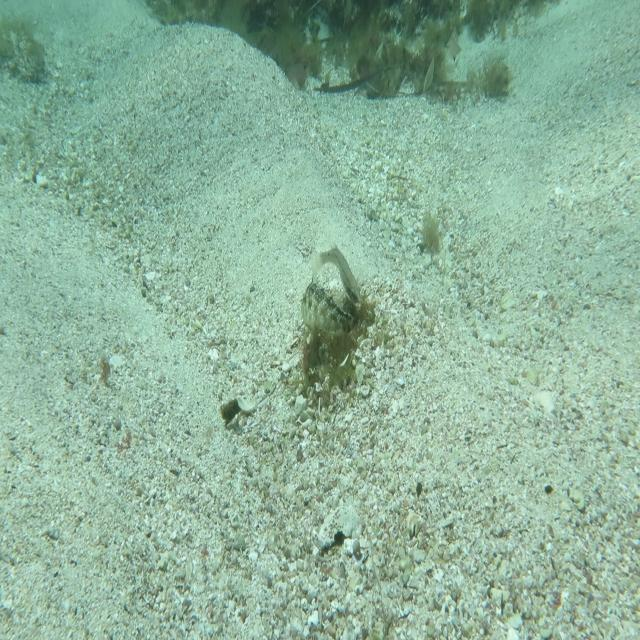DAN_CIRC: (298, 271, 359, 340)
female: (307, 241, 363, 306)
nest: (288, 289, 380, 415)
vegetation: (148, 0, 542, 37), (257, 38, 466, 86), (420, 217, 445, 263), (220, 394, 242, 426)
